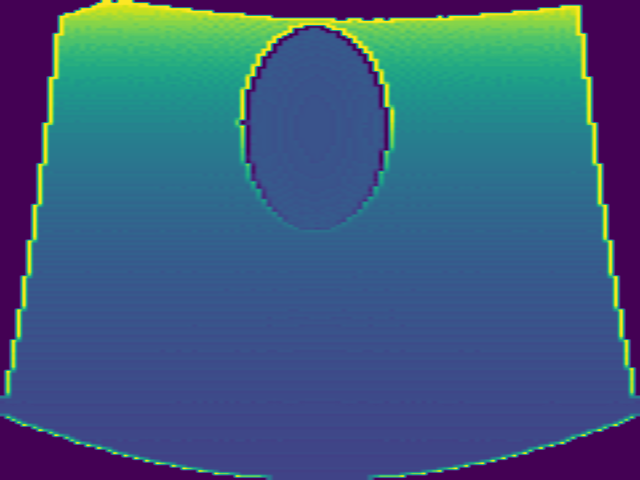sphere: (238, 25, 393, 232)
